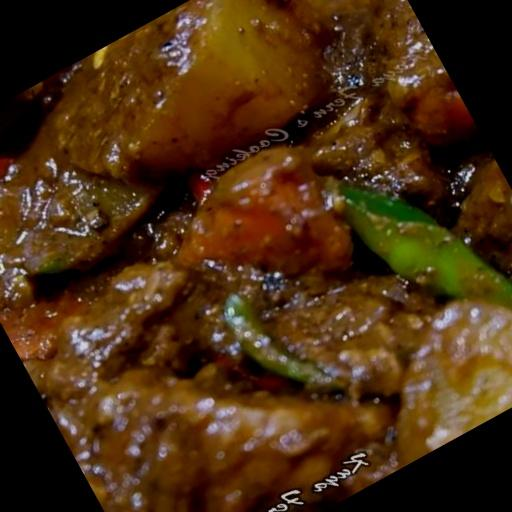pork caldereta: (0, 0, 511, 511)
